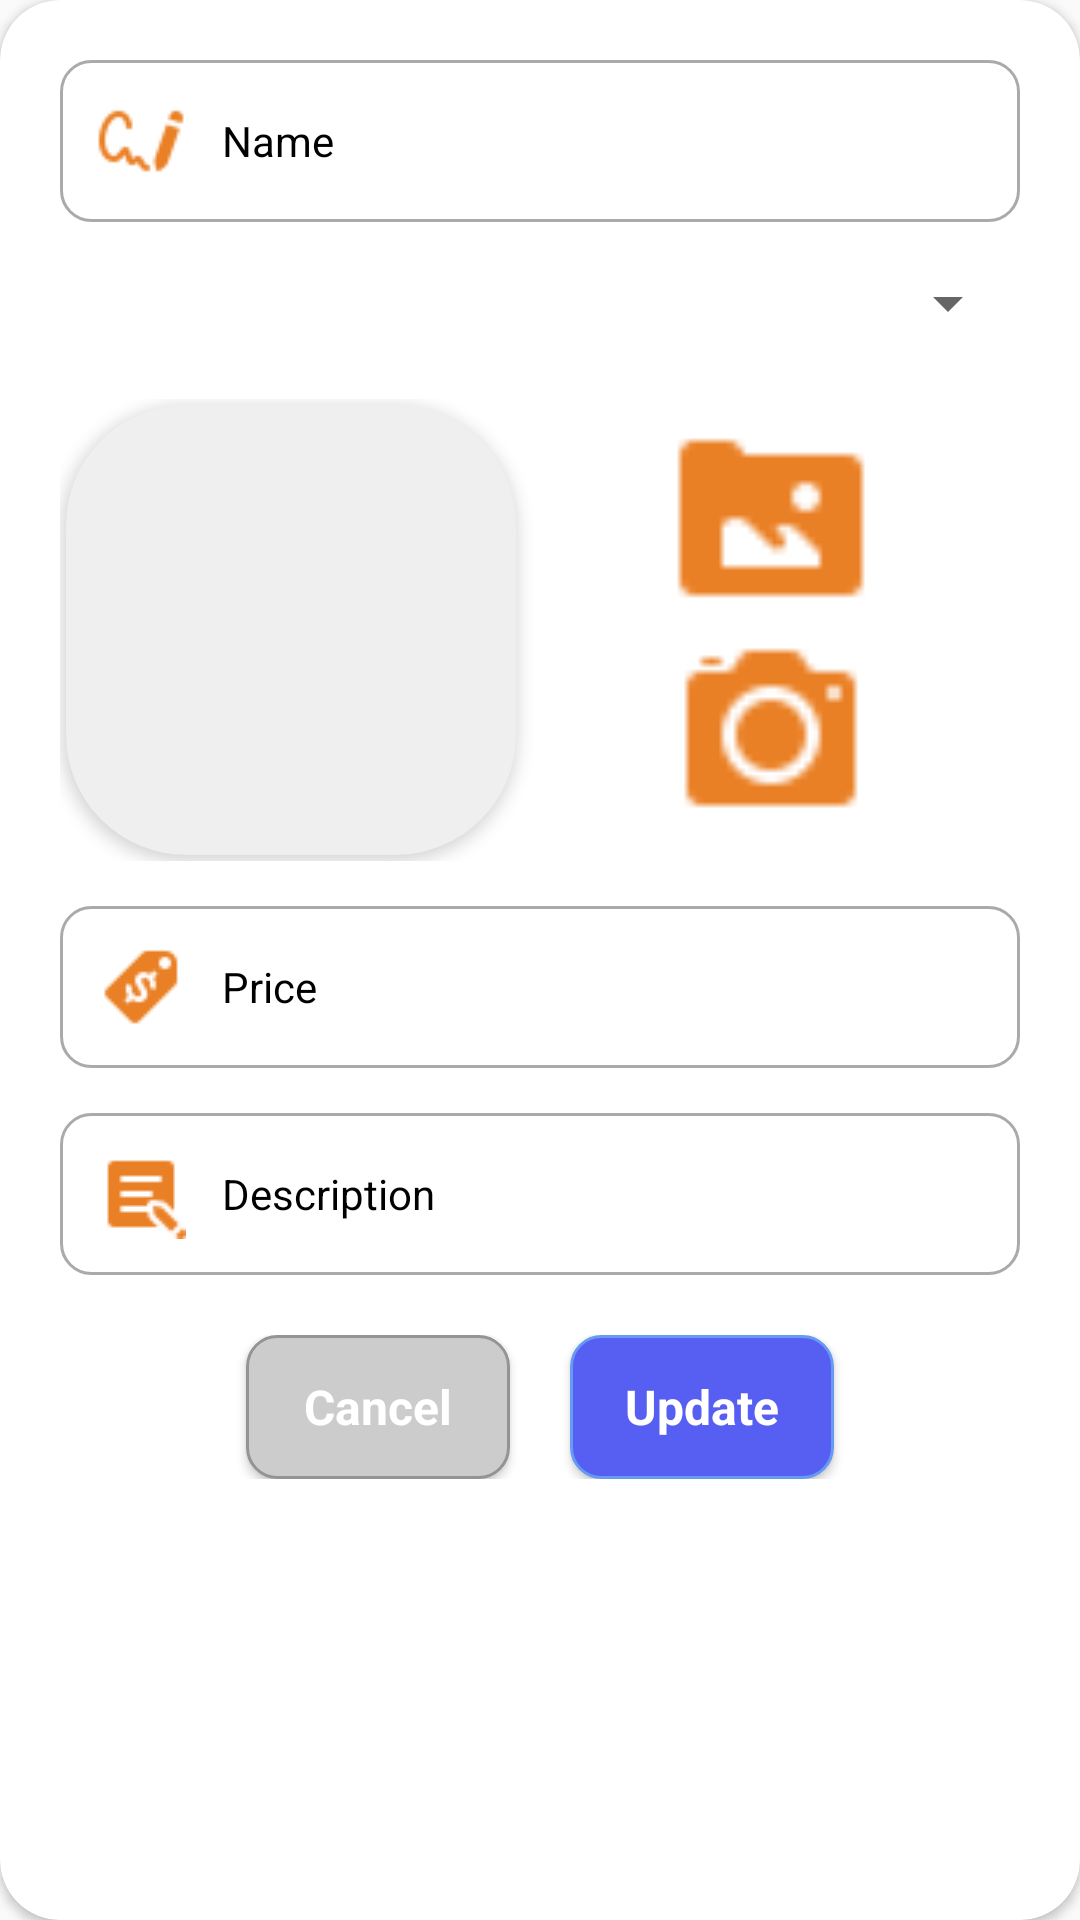

Icons on this 1080 x 1920 Android screen, each with its box as (x1, y1, x2, y2):
camera: (684, 648, 858, 808)
folder: (677, 438, 865, 598)
